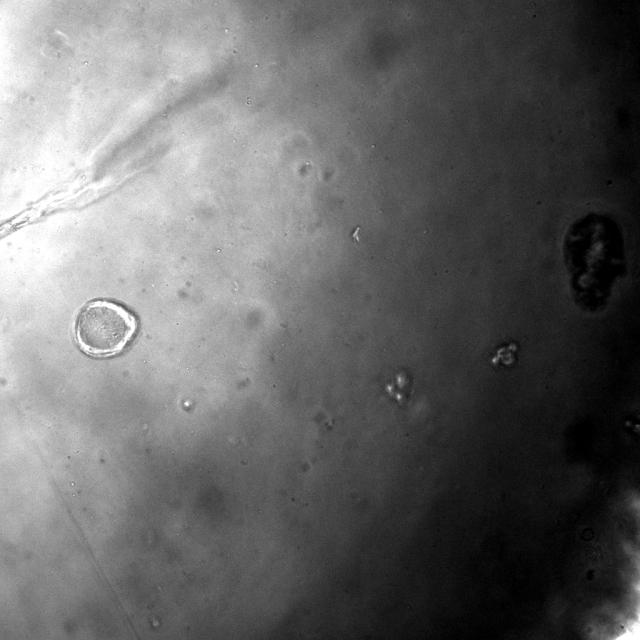organoid: (563, 213, 625, 311), (72, 298, 138, 358), (385, 370, 412, 405), (489, 341, 518, 367)
